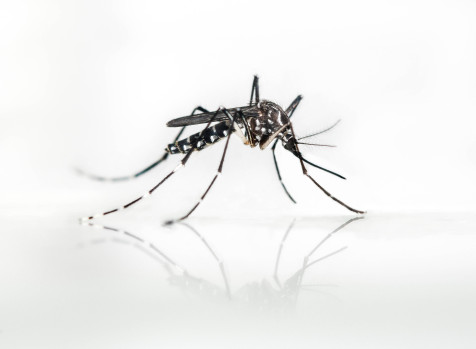mosquito: (66, 67, 386, 242)
